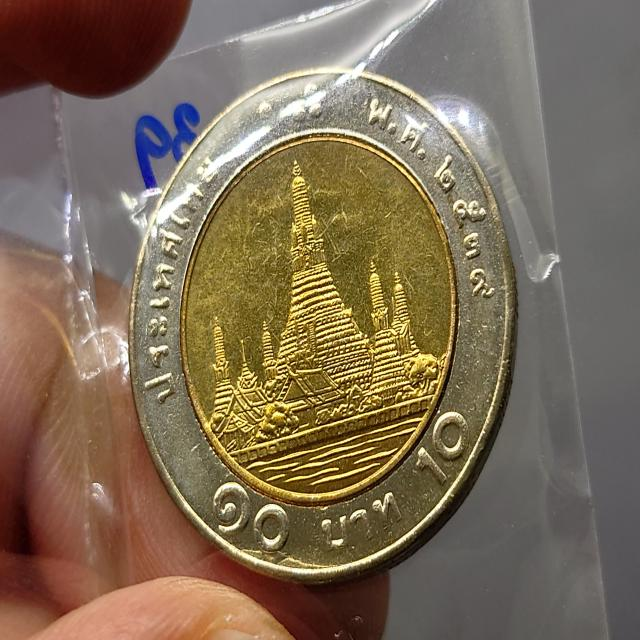10 Bath: (125, 64, 518, 587)
